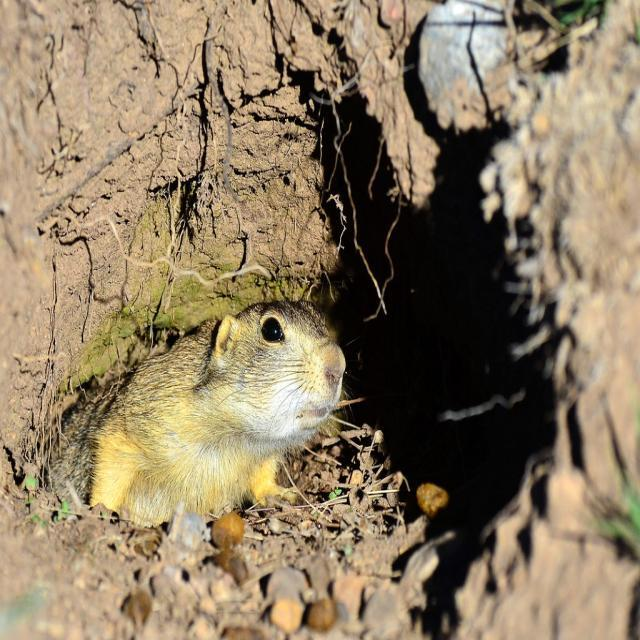rat: (47, 296, 349, 529)
